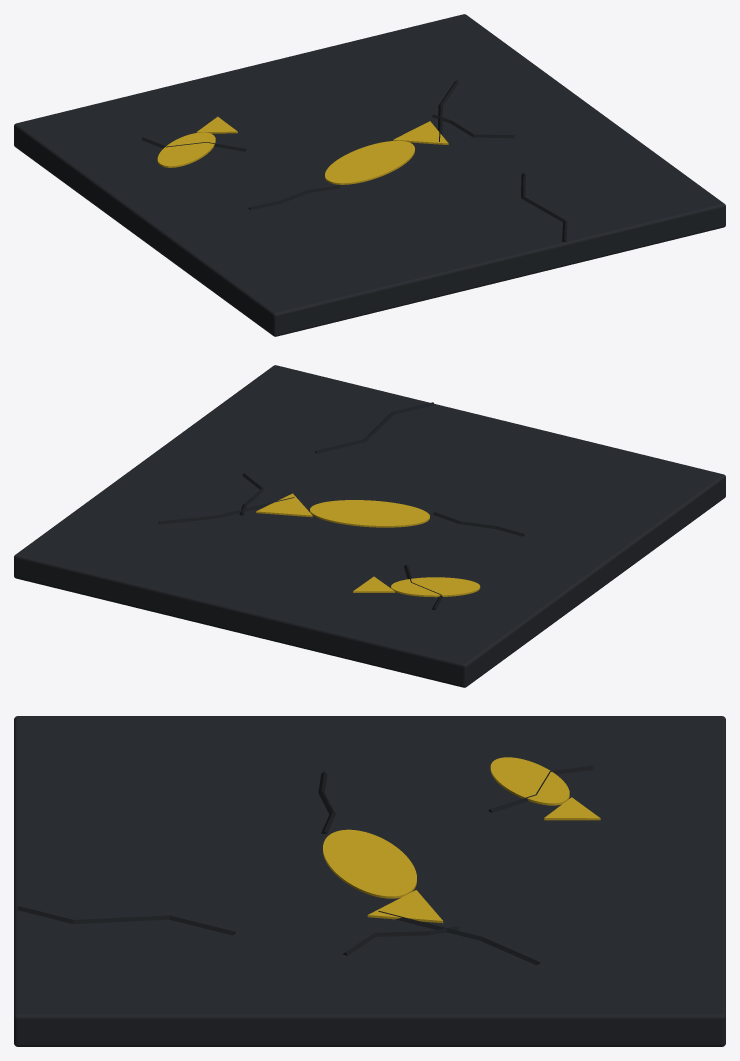
Rendered from zc_road_tile.glb.
The picture shows the model from 3 angles, top to bottom: view 1: azimuth 30°, elevation 25°; view 2: azimuth 150°, elevation 25°; view 3: azimuth 270°, elevation 25°; orthographic projection. The views are drawn at different scales.
Parts seen in each view (by area): view 1: zc_road_tile; view 2: zc_road_tile; view 3: zc_road_tile.
Boxes of the visible parts, <box> form: zc_road_tile: <box>14,14,725,336</box>; zc_road_tile: <box>14,365,725,687</box>; zc_road_tile: <box>14,716,725,1046</box>.
Size of the model in its own units: 2 by 0.109 by 2.
1 material, 1 textured.
